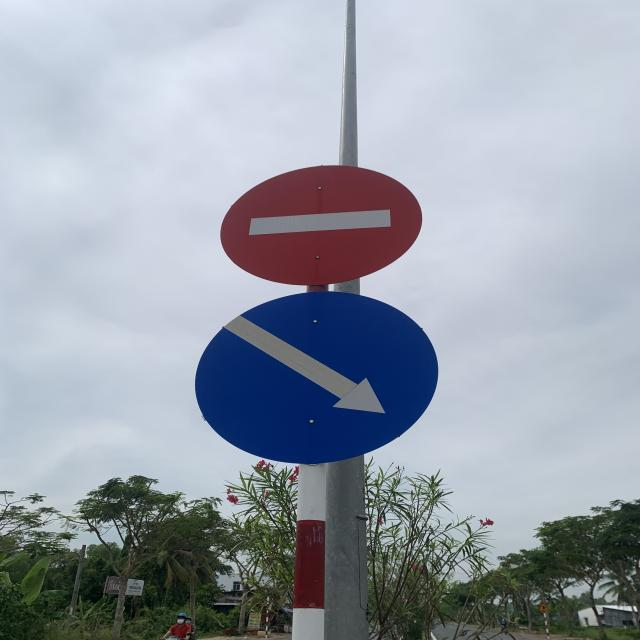Cam_Di_Nguoc_Chieu: (216, 161, 424, 288)
Chi_Huong_Di_Phai: (197, 291, 438, 464)
